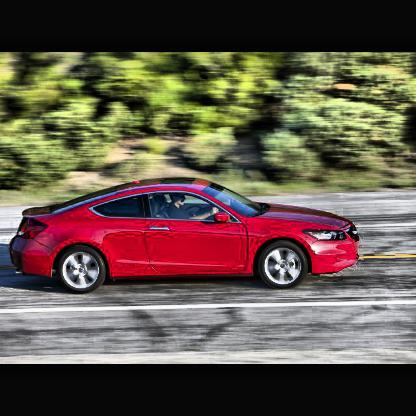Honda Accord Coupe 2012: (8, 178, 361, 295)
